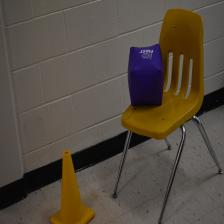cone: (50, 150, 94, 224)
cube: (128, 44, 164, 107)
